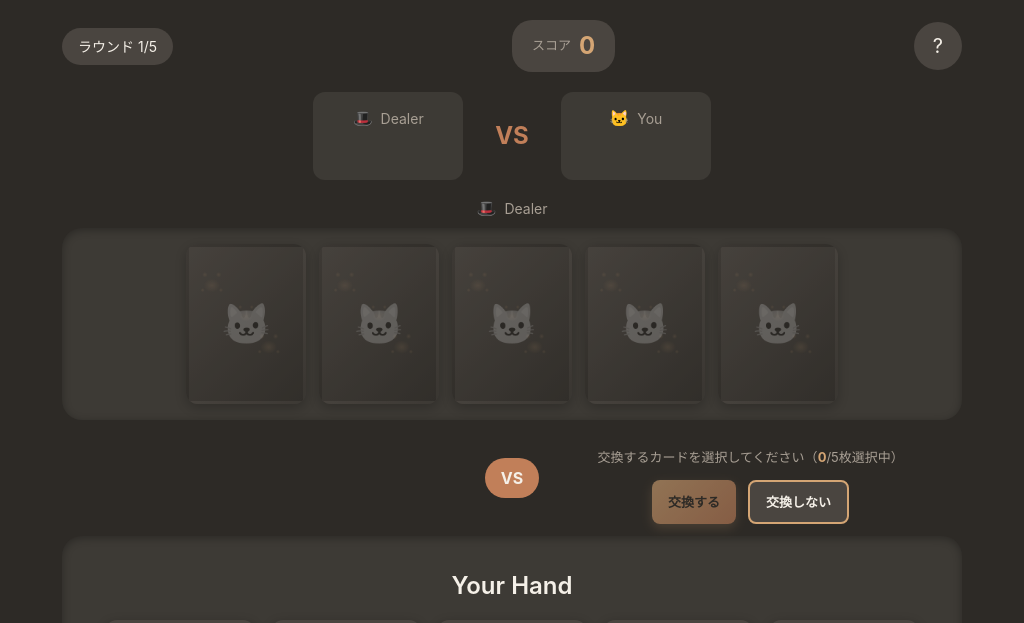
Test: BattleScreen Card Exchange › handles lose result
The width and height of the screenshot is (1024, 623).
Click the button "交換しない": (799, 502) [748,480,849,524]
Wait 3000 ms
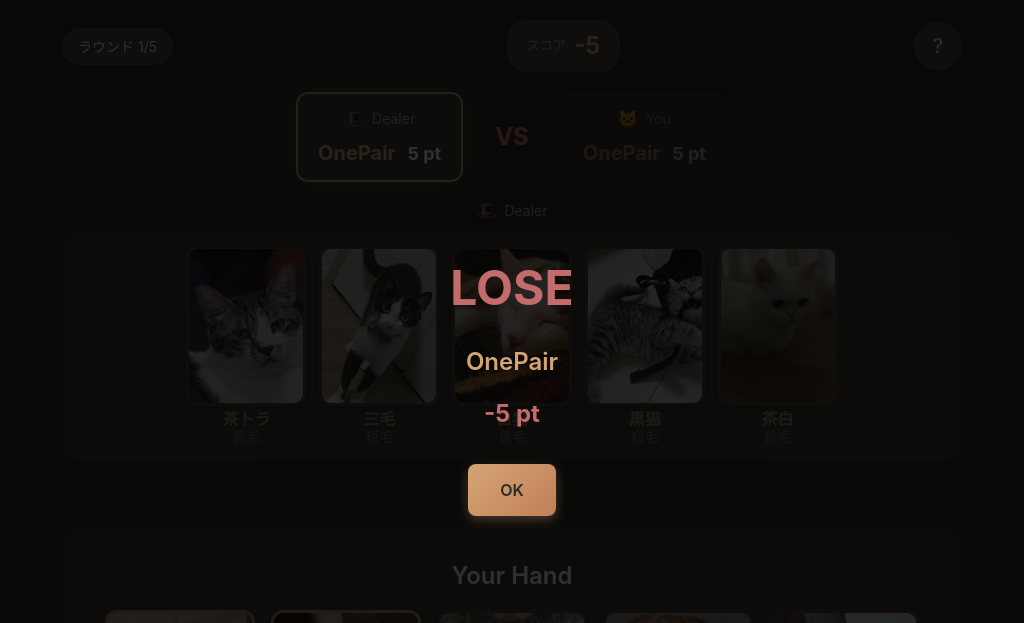
Expected: the heading "LOSE" is shown, [450,252,574,324]
